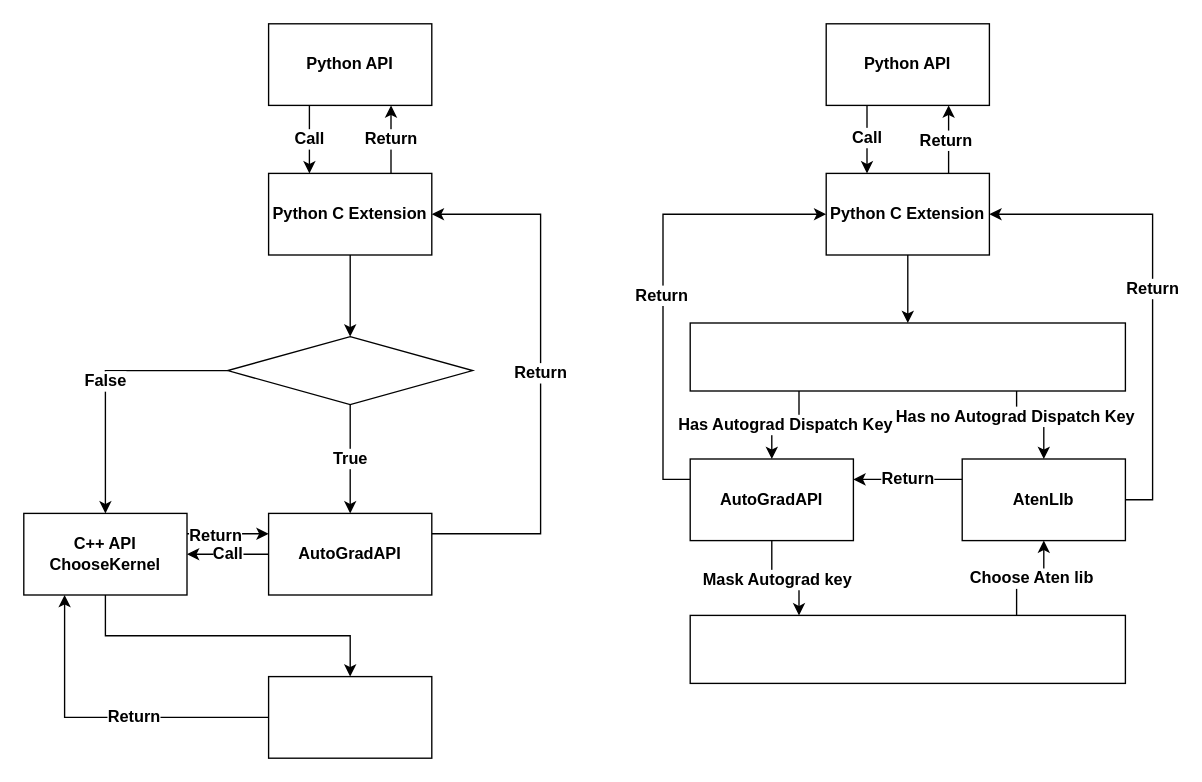
Some shapes in this 1202 by 782 pixel diagram are drawn without their labels. Each missing label, with the box of its shape:
ComputeRequireGrad: (226, 335, 473, 405)
Dispatch: (689, 322, 1125, 391)
Kernel: (267, 675, 432, 758)
Redispatch: (689, 614, 1125, 683)
